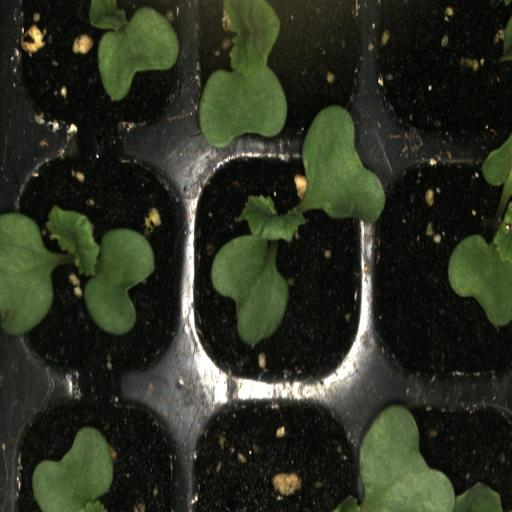seedling: (10, 150, 192, 384), (191, 147, 367, 385), (369, 152, 512, 384), (188, 0, 372, 152)
